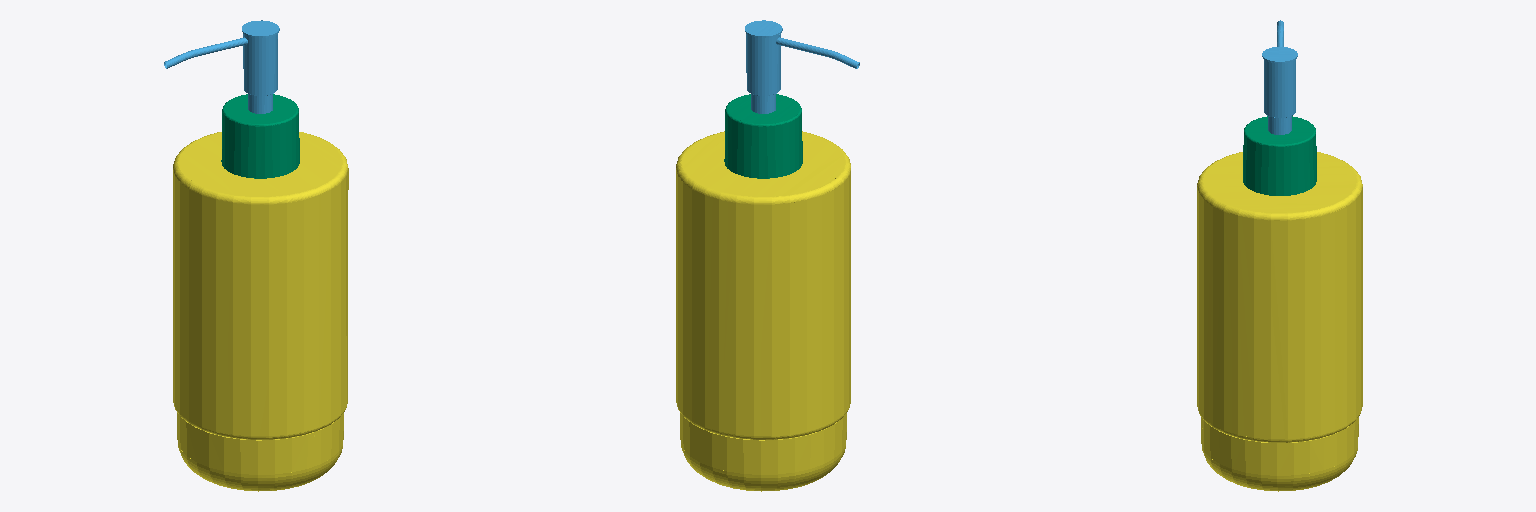
URDF robot description (partnet_61c16fac-185c-4b11-8627-0ff5da2e6bb1):
<?xml version="1.0" ?>
<robot name="partnet_61c16fac-185c-4b11-8627-0ff5da2e6bb1">
	<link name="base"/>
	<link name="link_0">
		<visual name="pressing_lid-1">
			<origin xyz="0.004915323790161703 0 -0.0017971651621122332"/>
			<geometry>
				<mesh filename="textured_objs/original_2.obj"/>
			</geometry>
		</visual>
		<visual name="pressing_lid-1">
			<origin xyz="0.004915323790161703 0 -0.0017971651621122332"/>
			<geometry>
				<mesh filename="textured_objs/original_6.obj"/>
			</geometry>
		</visual>
		<visual name="pressing_lid-1">
			<origin xyz="0.004915323790161703 0 -0.0017971651621122332"/>
			<geometry>
				<mesh filename="textured_objs/original_8.obj"/>
			</geometry>
		</visual>
		<visual name="pressing_lid-1">
			<origin xyz="0.004915323790161703 0 -0.0017971651621122332"/>
			<geometry>
				<mesh filename="textured_objs/original_11.obj"/>
			</geometry>
		</visual>
		<visual name="pressing_lid-1">
			<origin xyz="0.004915323790161703 0 -0.0017971651621122332"/>
			<geometry>
				<mesh filename="textured_objs/original_10.obj"/>
			</geometry>
		</visual>
		<collision>
			<origin xyz="0.004915323790161703 0 -0.0017971651621122332"/>
			<geometry>
				<mesh filename="textured_objs/original_2.obj"/>
			</geometry>
		</collision>
		<collision>
			<origin xyz="0.004915323790161703 0 -0.0017971651621122332"/>
			<geometry>
				<mesh filename="textured_objs/original_6.obj"/>
			</geometry>
		</collision>
		<collision>
			<origin xyz="0.004915323790161703 0 -0.0017971651621122332"/>
			<geometry>
				<mesh filename="textured_objs/original_8.obj"/>
			</geometry>
		</collision>
		<collision>
			<origin xyz="0.004915323790161703 0 -0.0017971651621122332"/>
			<geometry>
				<mesh filename="textured_objs/original_11.obj"/>
			</geometry>
		</collision>
		<collision>
			<origin xyz="0.004915323790161703 0 -0.0017971651621122332"/>
			<geometry>
				<mesh filename="textured_objs/original_10.obj"/>
			</geometry>
		</collision>
	</link>
	<joint name="joint_0" type="continuous">
		<origin xyz="0.0 0 0.0"/>
		<axis xyz="0 1 0"/>
		<child link="link_0"/>
		<parent link="link_0_helper"/>
	</joint>
	<link name="link_1">
		<visual name="head-3">
			<origin xyz="0.004915327197033692 0 -0.0017972638984641576"/>
			<geometry>
				<mesh filename="textured_objs/original_7.obj"/>
			</geometry>
		</visual>
		<collision>
			<origin xyz="0.004915327197033692 0 -0.0017972638984641576"/>
			<geometry>
				<mesh filename="textured_objs/original_7.obj"/>
			</geometry>
		</collision>
	</link>
	<joint name="joint_1" type="continuous">
		<origin xyz="0.0 0 0.0"/>
		<axis xyz="0 -1 0"/>
		<child link="link_1"/>
		<parent link="link_1_helper"/>
	</joint>
	<link name="link_2">
		<visual name="base_body-4">
			<origin xyz="0 0 0"/>
			<geometry>
				<mesh filename="textured_objs/original_4.obj"/>
			</geometry>
		</visual>
		<visual name="base_body-4">
			<origin xyz="0 0 0"/>
			<geometry>
				<mesh filename="textured_objs/original_5.obj"/>
			</geometry>
		</visual>
		<visual name="base_body-4">
			<origin xyz="0 0 0"/>
			<geometry>
				<mesh filename="textured_objs/original_1.obj"/>
			</geometry>
		</visual>
		<collision>
			<origin xyz="0 0 0"/>
			<geometry>
				<mesh filename="textured_objs/original_4.obj"/>
			</geometry>
		</collision>
		<collision>
			<origin xyz="0 0 0"/>
			<geometry>
				<mesh filename="textured_objs/original_5.obj"/>
			</geometry>
		</collision>
		<collision>
			<origin xyz="0 0 0"/>
			<geometry>
				<mesh filename="textured_objs/original_1.obj"/>
			</geometry>
		</collision>
	</link>
	<joint name="joint_2" type="fixed">
		<origin rpy="1.570796326794897 0 -1.570796326794897" xyz="0 0 0"/>
		<child link="link_2"/>
		<parent link="base"/>
	</joint>
	<link name="link_0_helper">
		<inertial>
			<origin xyz="0 0 0"/>
			<mass value="1e-6"/>
			<inertia ixx="1e-10" ixy="0" ixz="0" iyy="1e-10" iyz="0" izz="1e-10"/>
		</inertial>
	</link>
	<joint name="joint_3" type="prismatic">
		<origin xyz="3.406871989380944e-09 0 -9.873635192433894e-08"/>
		<axis xyz="0 -1 0"/>
		<child link="link_0_helper"/>
		<parent link="link_1"/>
		<limit lower="0" upper="0.08"/>
	</joint>
	<link name="link_1_helper">
		<inertial>
			<origin xyz="0 0 0"/>
			<mass value="1e-6"/>
			<inertia ixx="1e-10" ixy="0" ixz="0" iyy="1e-10" iyz="0" izz="1e-10"/>
		</inertial>
	</link>
	<joint name="joint_4" type="prismatic">
		<origin xyz="-0.004915327197033692 0 0.0017972638984641576"/>
		<axis xyz="0 1 0"/>
		<child link="link_1_helper"/>
		<parent link="link_2"/>
		<limit lower="0" upper="0.02"/>
	</joint>
</robot>

--- Render facts (derived) ---
3 views of the same robot in one strip: view 1: azimuth 30°, elevation 25°; view 2: azimuth 150°, elevation 25°; view 3: azimuth 270°, elevation 25° (orthographic).
Model partnet_61c16fac-185c-4b11-8627-0ff5da2e6bb1 with 6 links and 5 joints (2 continuous, 2 prismatic, 1 fixed), rooted at base, posed all joints at 0.
Visible links, largest first — view 1: link_2, link_1, link_0; view 2: link_2, link_1, link_0; view 3: link_2, link_1, link_0.
Link boxes in pixels (x1,y1,x2,y2): link_2: (173,132,348,491); link_1: (221,94,299,178); link_0: (164,20,279,113); link_2: (676,131,850,491); link_1: (724,94,802,178); link_0: (745,20,859,113); link_2: (1197,152,1362,491); link_1: (1243,116,1316,195); link_0: (1262,20,1297,134).
Size in the robot's own frame: 0.6781 by 0.6023 by 1.66 metres.
Meshes: 9 distinct files referenced, 9 mesh visuals loaded (9 OBJ).
